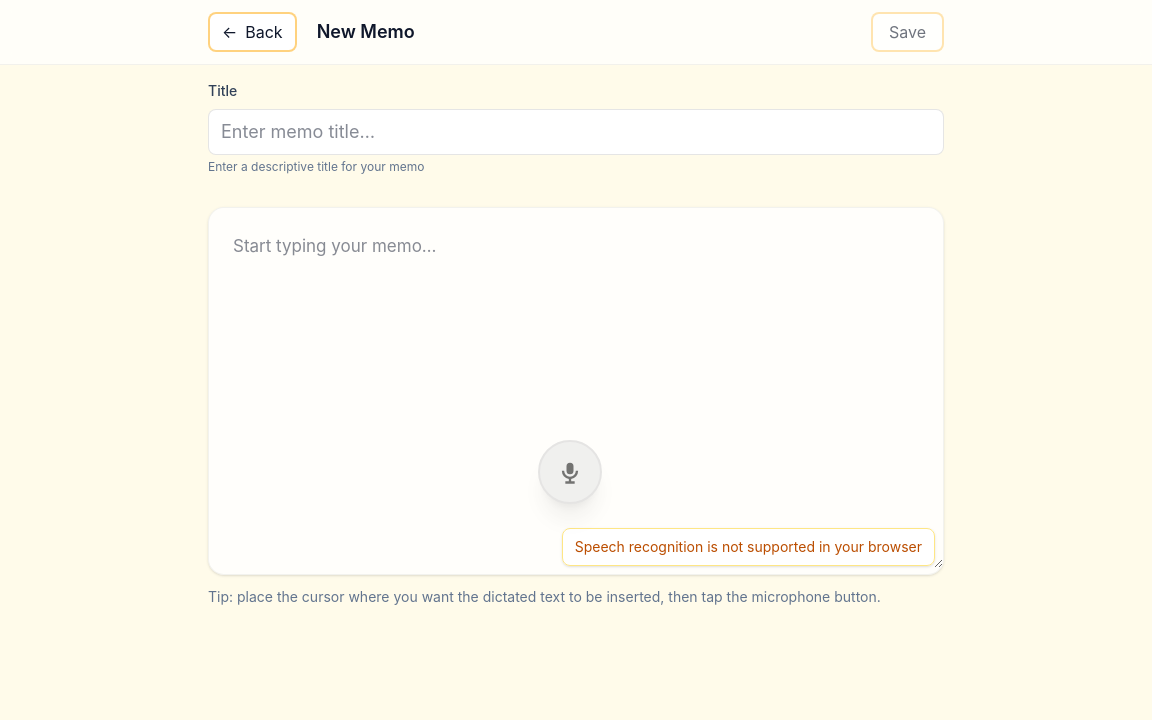
Test case: MemoPage — Save button state (create mode) › shows a green Saved tick and disables Save after a successful save
The width and height of the screenshot is (1152, 720).
Type "My memo" into the field labelled "Title" at (576, 132), box 208,109 -> 944,155
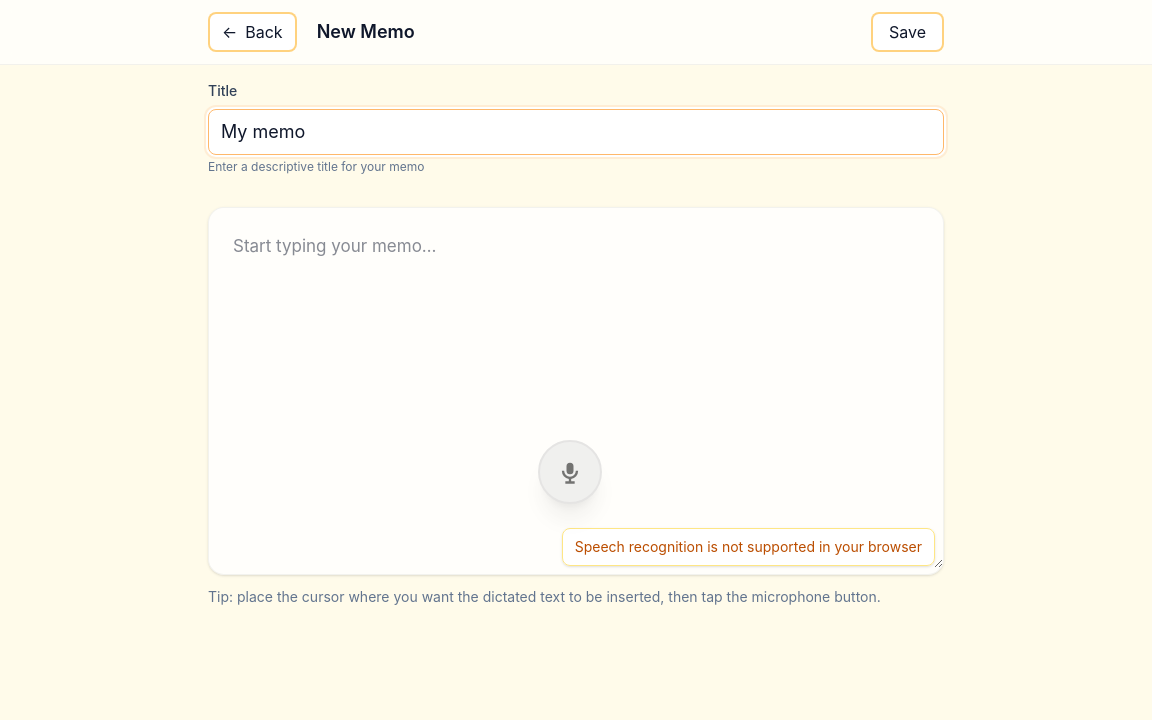
Click the button "Save" at (908, 32), box 871,12 -> 944,52
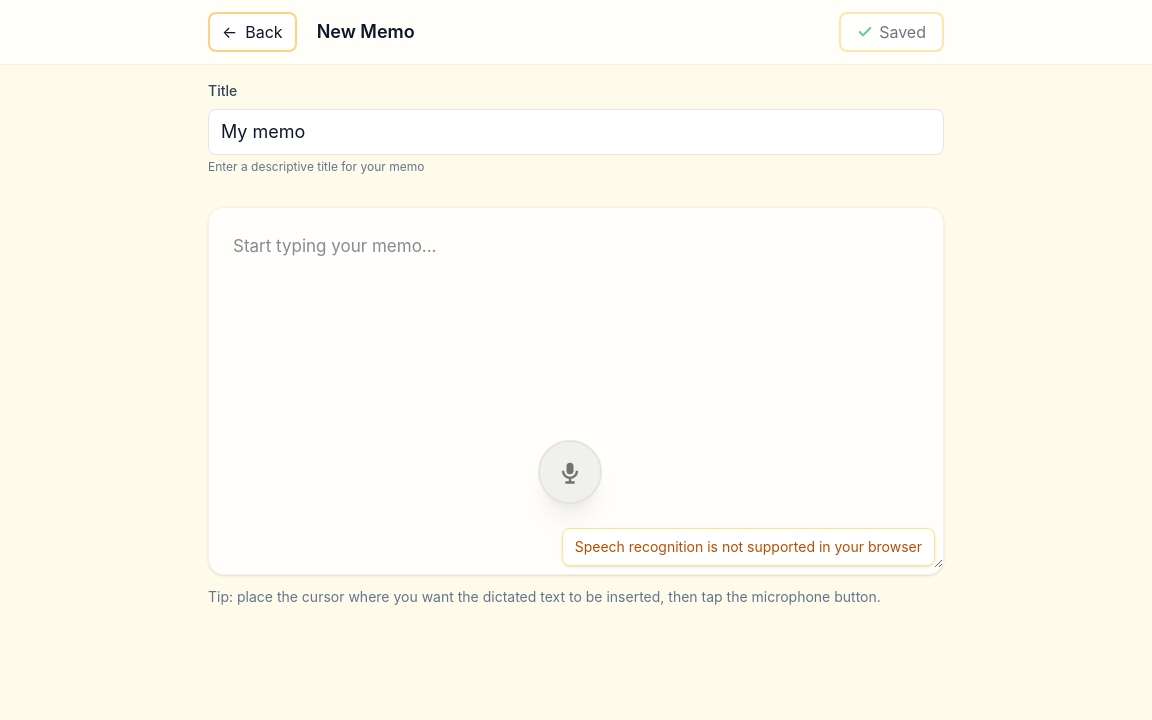
Check: the text "Saved" is shown, box 879,20 -> 926,44
Check: the button "Saved" is disabled, box 839,12 -> 944,52
